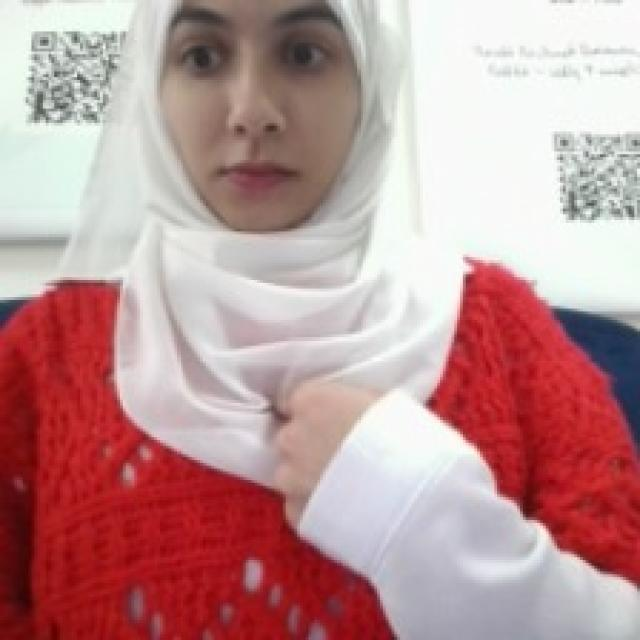me: (264, 368, 390, 543)
